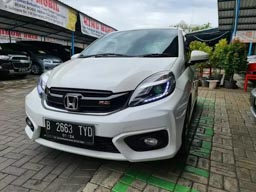plat: (45, 119, 96, 137)
